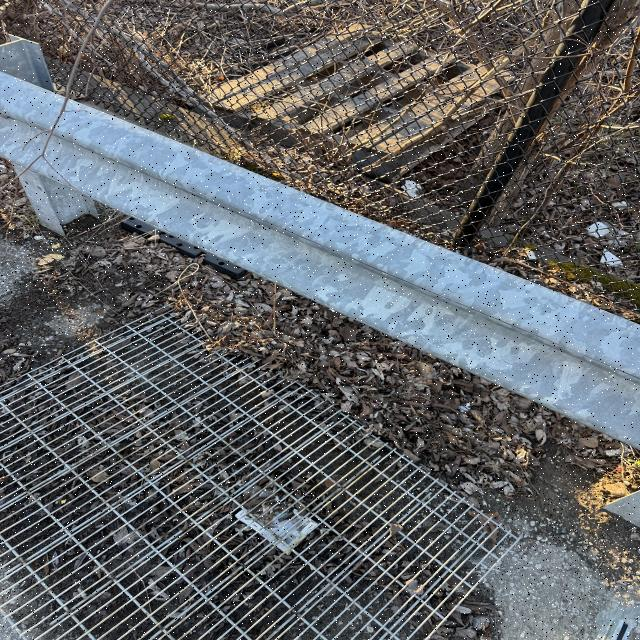Guard rail: (0, 68, 612, 404)
